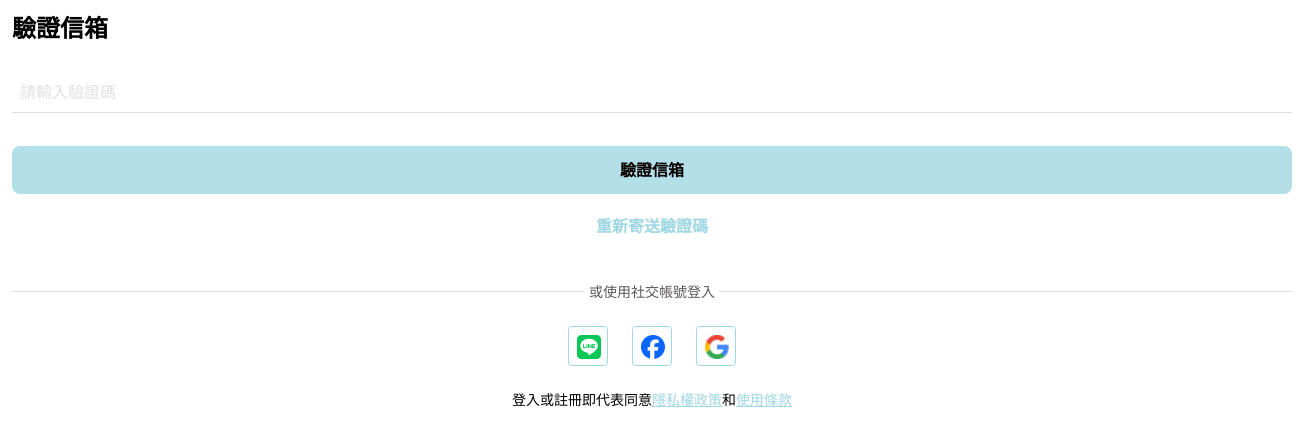
Test: VerifyEmailBox › should resend verification email and start countdown
Click the button "重新寄送驗證碼" at x=652, y=226, box [12, 202, 1292, 250]
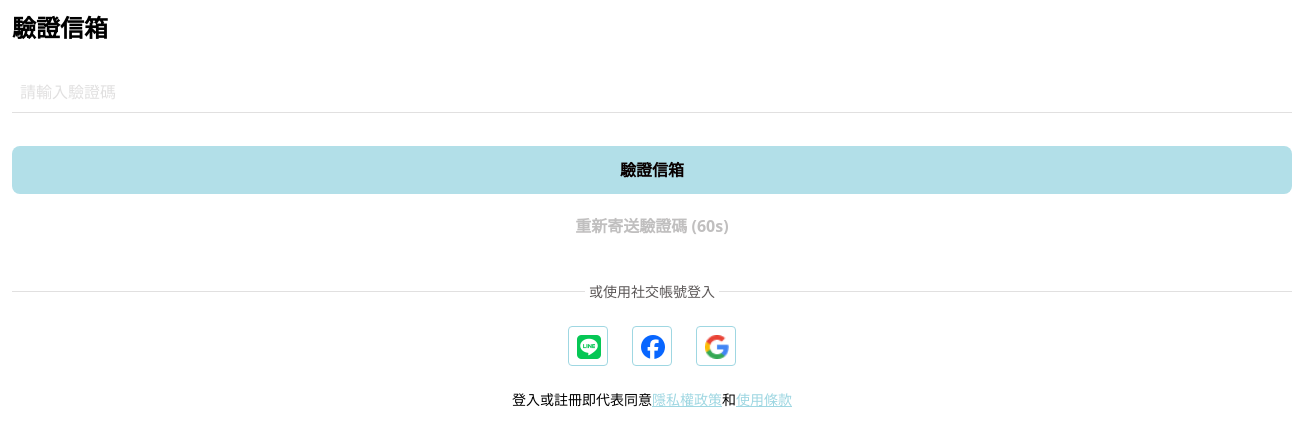
Now the text "重新寄送驗證碼 (60s)" is shown, box [575, 214, 729, 238]
